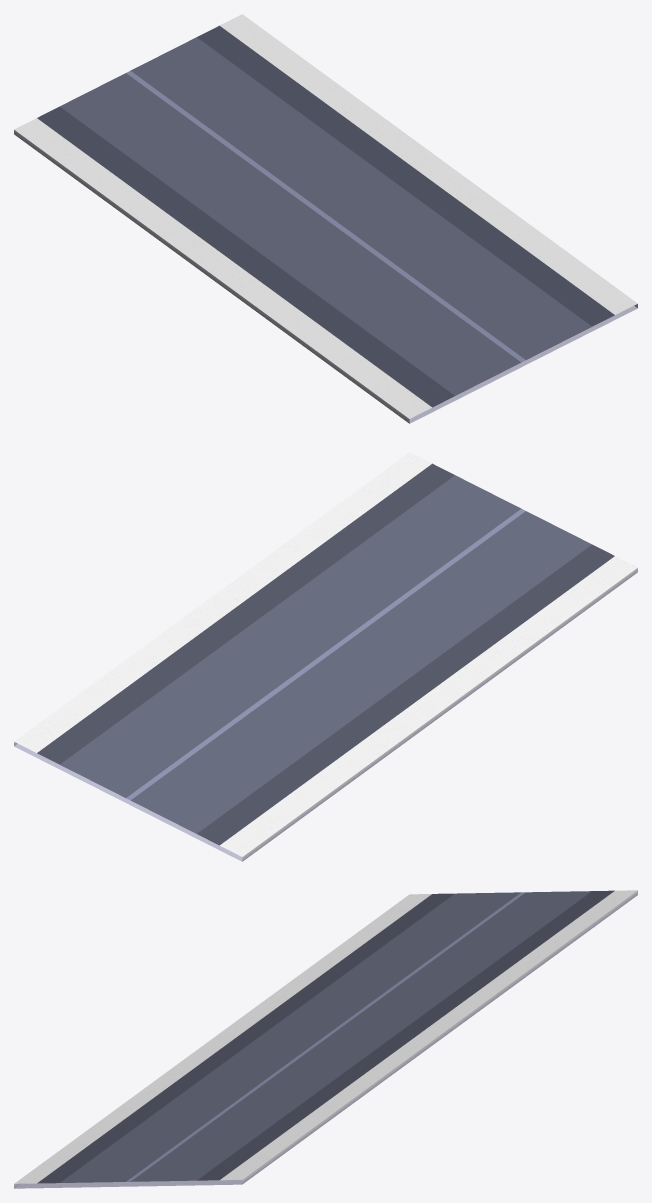
Rendered from road-Straight-HalfBankedLeft-HalfBankedLeft-Even-Center-Size3.glb.
The picture shows the model from 3 angles, top to bottom: view 1: azimuth 30°, elevation 25°; view 2: azimuth 150°, elevation 25°; view 3: azimuth 330°, elevation 25°; orthographic projection.
Parts seen in each view (by area): view 1: road-Straight-HalfBankedLeft-HalfBankedLeft-Even-Center-Size; view 2: road-Straight-HalfBankedLeft-HalfBankedLeft-Even-Center-Size; view 3: road-Straight-HalfBankedLeft-HalfBankedLeft-Even-Center-Size.
Boxes of the visible parts, x1,y1,x2,y2 form: road-Straight-HalfBankedLeft-HalfBankedLeft-Even-Center-Size: (14, 14, 637, 423); road-Straight-HalfBankedLeft-HalfBankedLeft-Even-Center-Size: (14, 452, 637, 861); road-Straight-HalfBankedLeft-HalfBankedLeft-Even-Center-Size: (14, 890, 637, 1188).
Bounding box in the file's own units: 1 × 0.27 × 3.
1 material, 1 textured.
